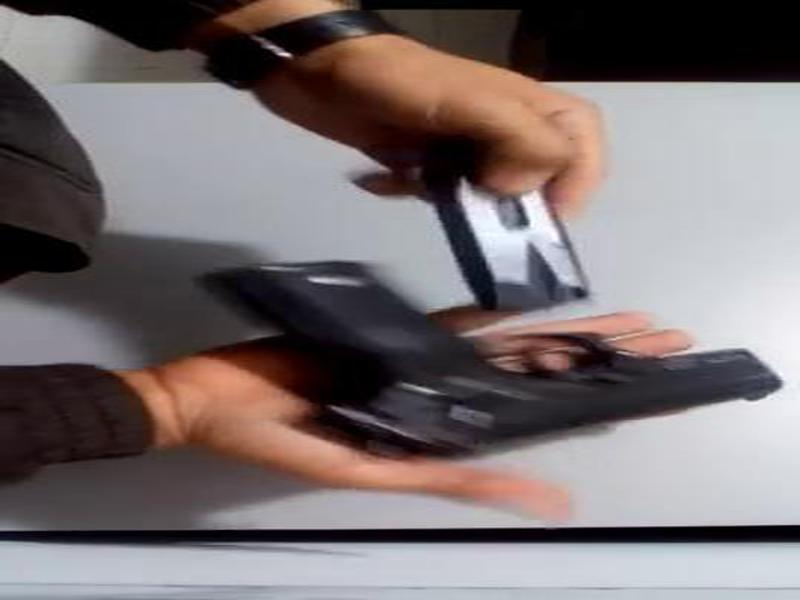Pistola: (190, 239, 791, 475)
